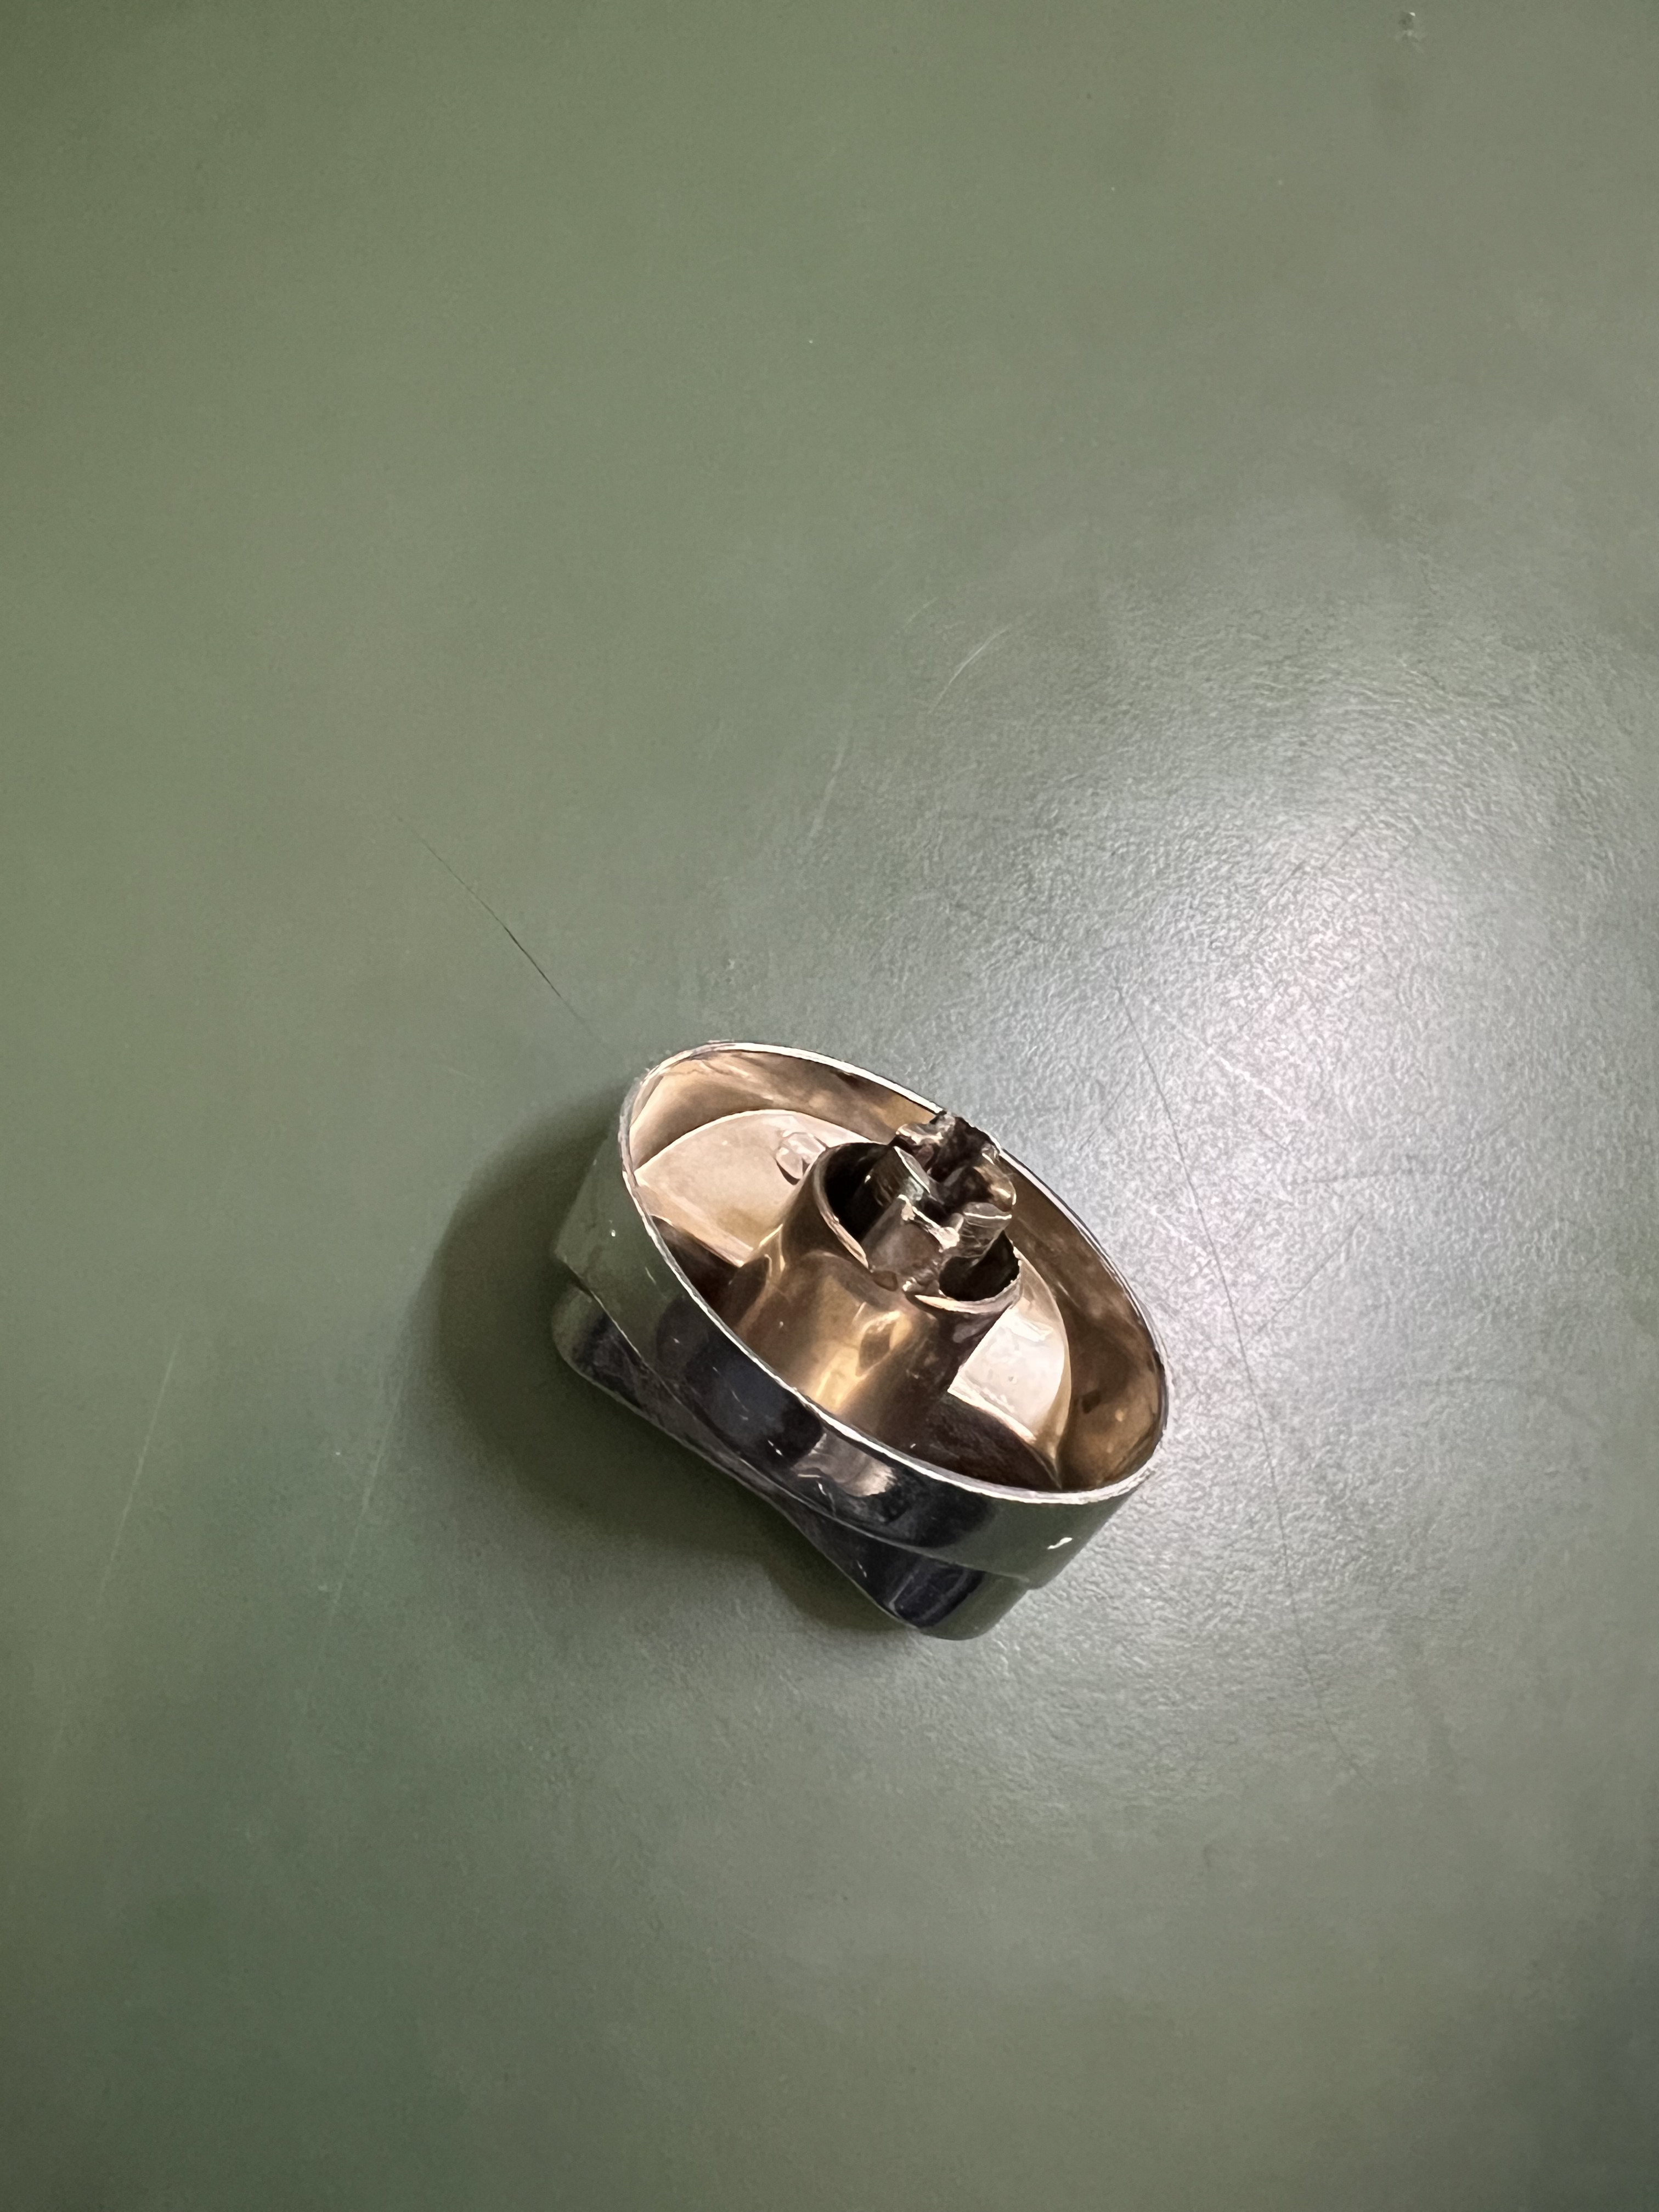regulator: (558, 1045, 1166, 1656)
